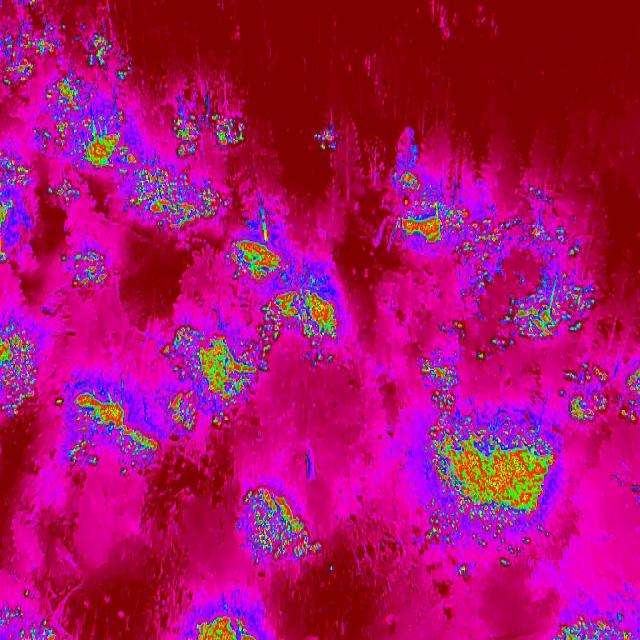fire: (411, 357, 561, 558), (0, 0, 129, 175), (439, 194, 564, 352), (218, 221, 350, 368), (56, 380, 178, 480), (161, 318, 264, 434), (112, 152, 235, 234), (238, 478, 330, 572), (563, 361, 640, 427), (174, 96, 252, 156), (0, 310, 37, 418), (54, 240, 121, 298), (564, 234, 600, 334), (180, 600, 268, 640), (0, 174, 37, 268), (394, 175, 440, 243), (0, 600, 62, 640), (551, 614, 640, 640), (309, 120, 345, 154), (46, 180, 80, 210)
